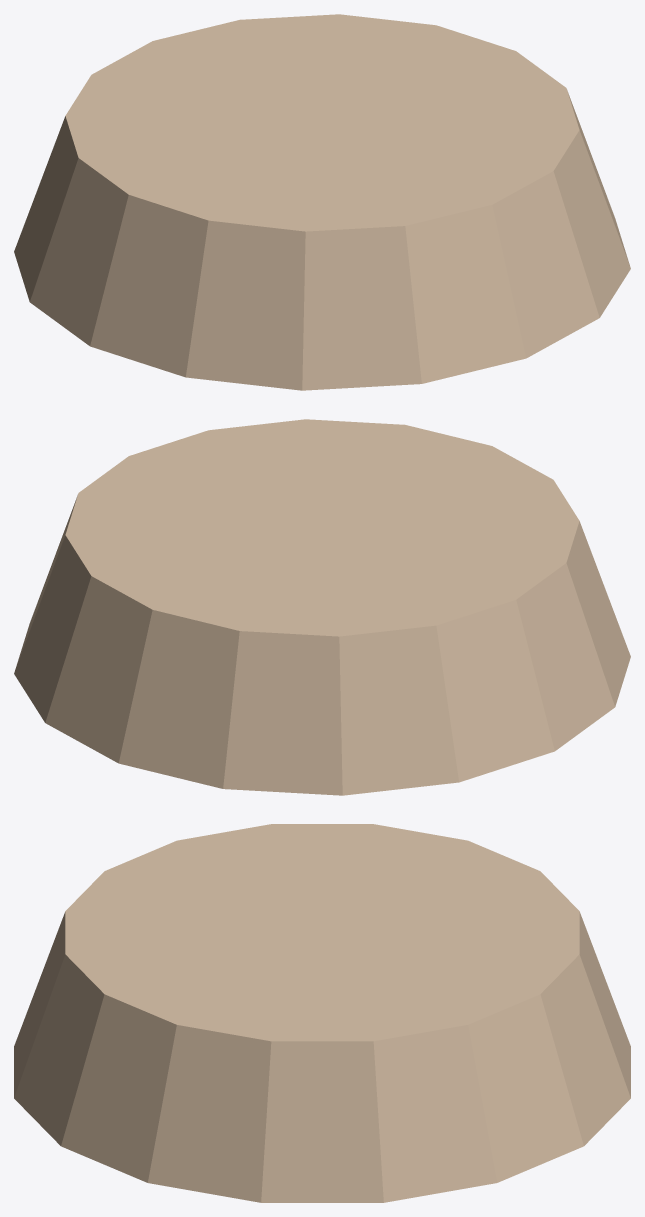
File: s1collider.obj
3 renders of one model, top to bottom at view 1: azimuth 30°, elevation 25°; view 2: azimuth 150°, elevation 25°; view 3: azimuth 270°, elevation 25°, orthographic.
Parts seen in each view (by area): view 1: c; view 2: c; view 3: c.
Boxes of the visible parts, x1,y1,x2,y2 form: c: (14,14,630,390); c: (14,419,630,795); c: (14,824,630,1202).
Bounding box in the file's own units: 1.5 × 0.375 × 1.5.
